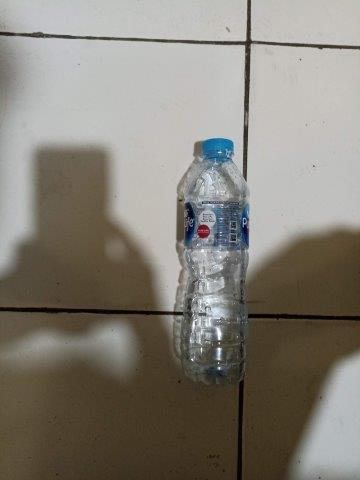botolplastik: (183, 138, 245, 384)
